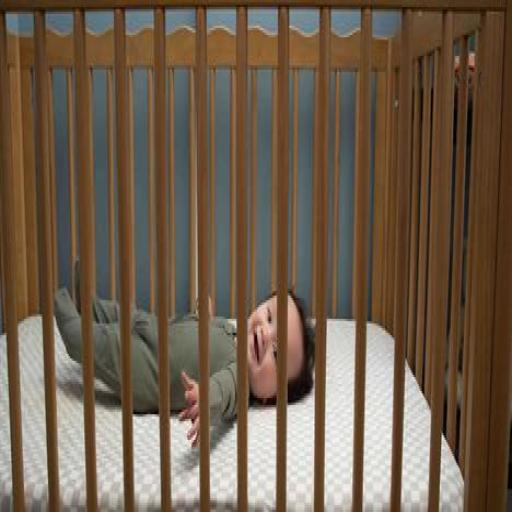baby: (169, 315, 199, 444)
crib: (0, 0, 511, 509)
